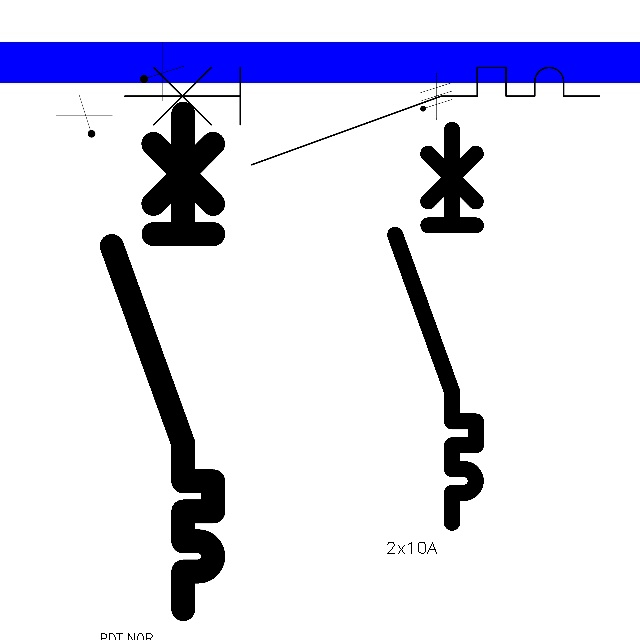interruptor_termomagnetico: (99, 100, 226, 621), (112, 55, 612, 177), (385, 119, 486, 532)
